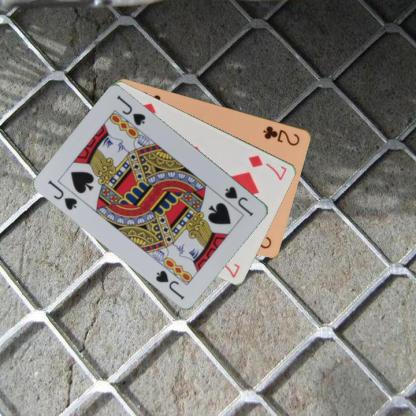2c: (260, 123, 302, 147)
7d: (246, 152, 288, 181)
Js: (222, 184, 256, 218), (45, 177, 79, 211)
